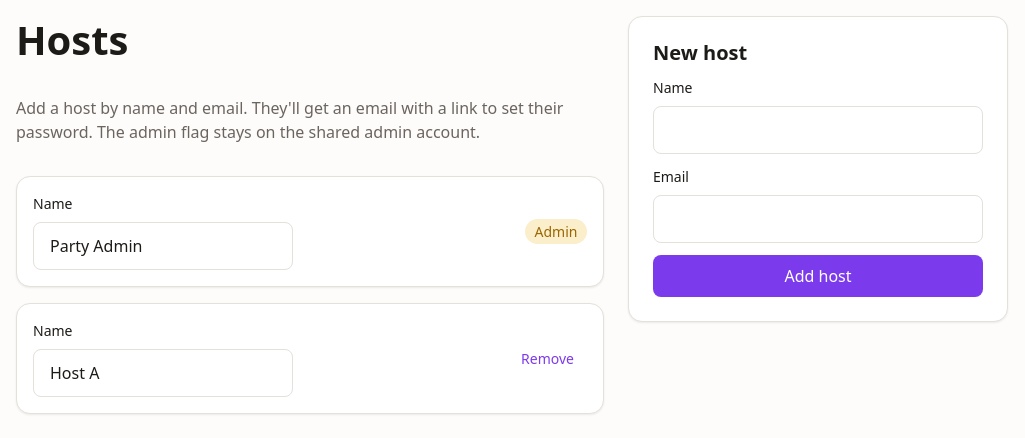
Hosts › surfaces a create error
Type "Kit" into the field labelled "Name" below "New host" at (818, 130), box [653,106,983,154]
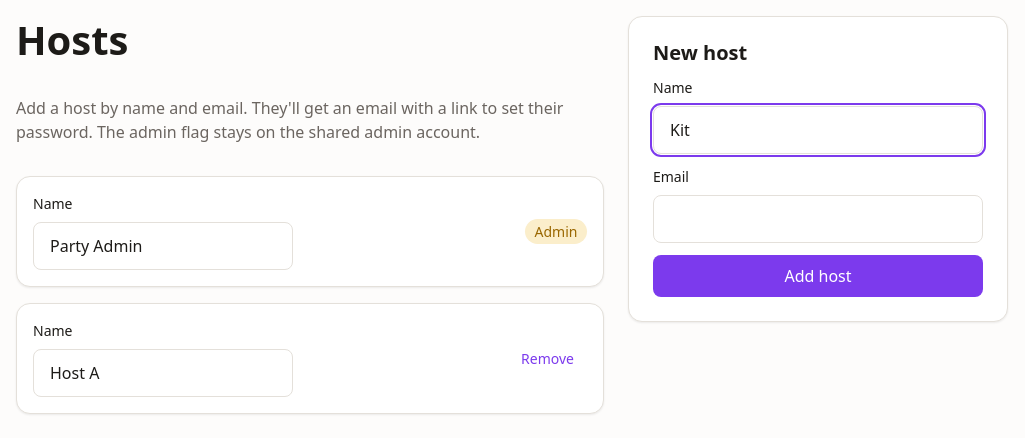
Type "nope" into the field labelled "Email" at (818, 219), box [653,195,983,243]
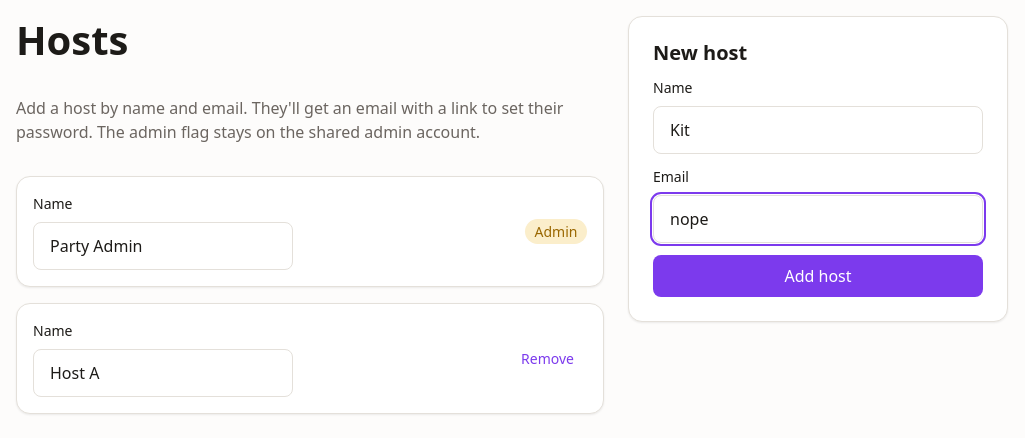
Click the button "Add host" at (818, 276), box [653,255,983,297]
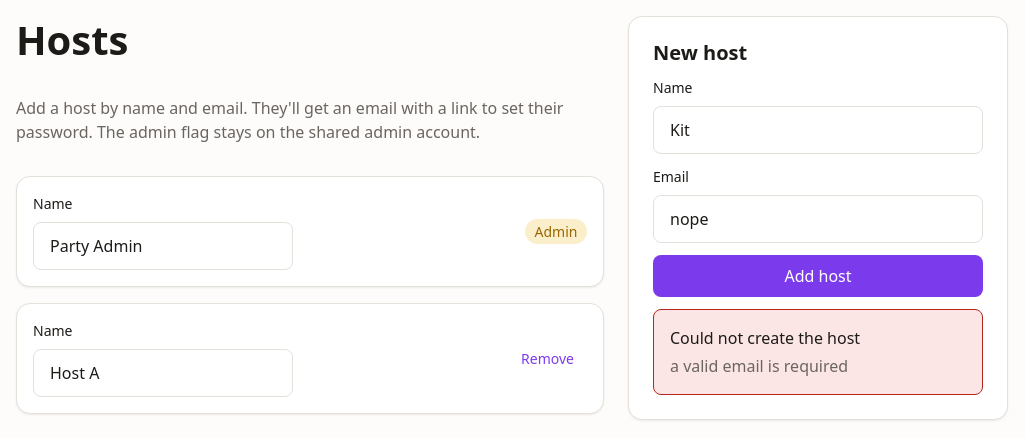
Check: the text "a valid email is required" is shown, box [670,355,848,377]
